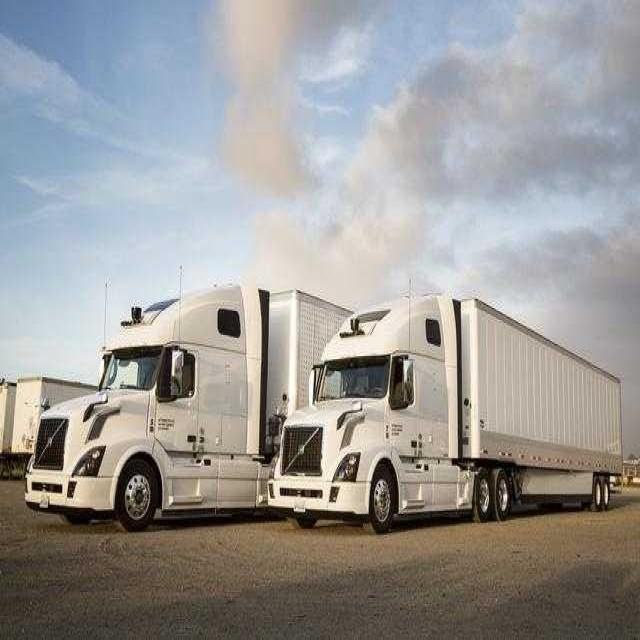Truck: (262, 286, 626, 532), (23, 269, 354, 532)
